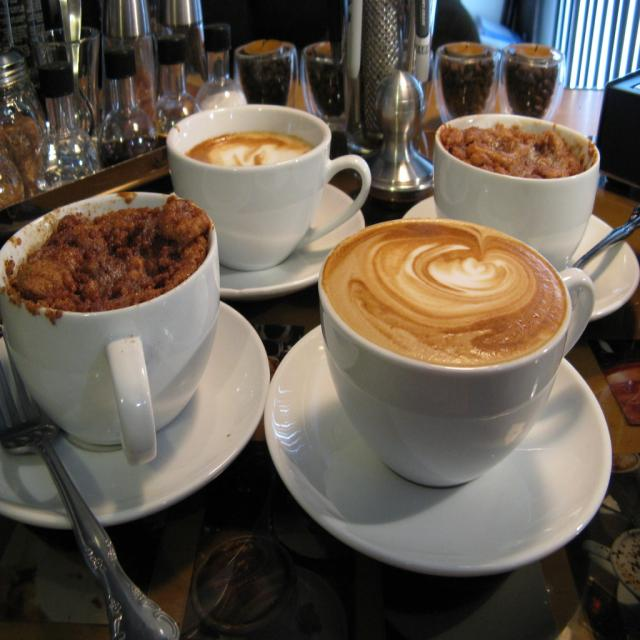Coffee: (322, 213, 572, 373), (176, 128, 309, 174)
